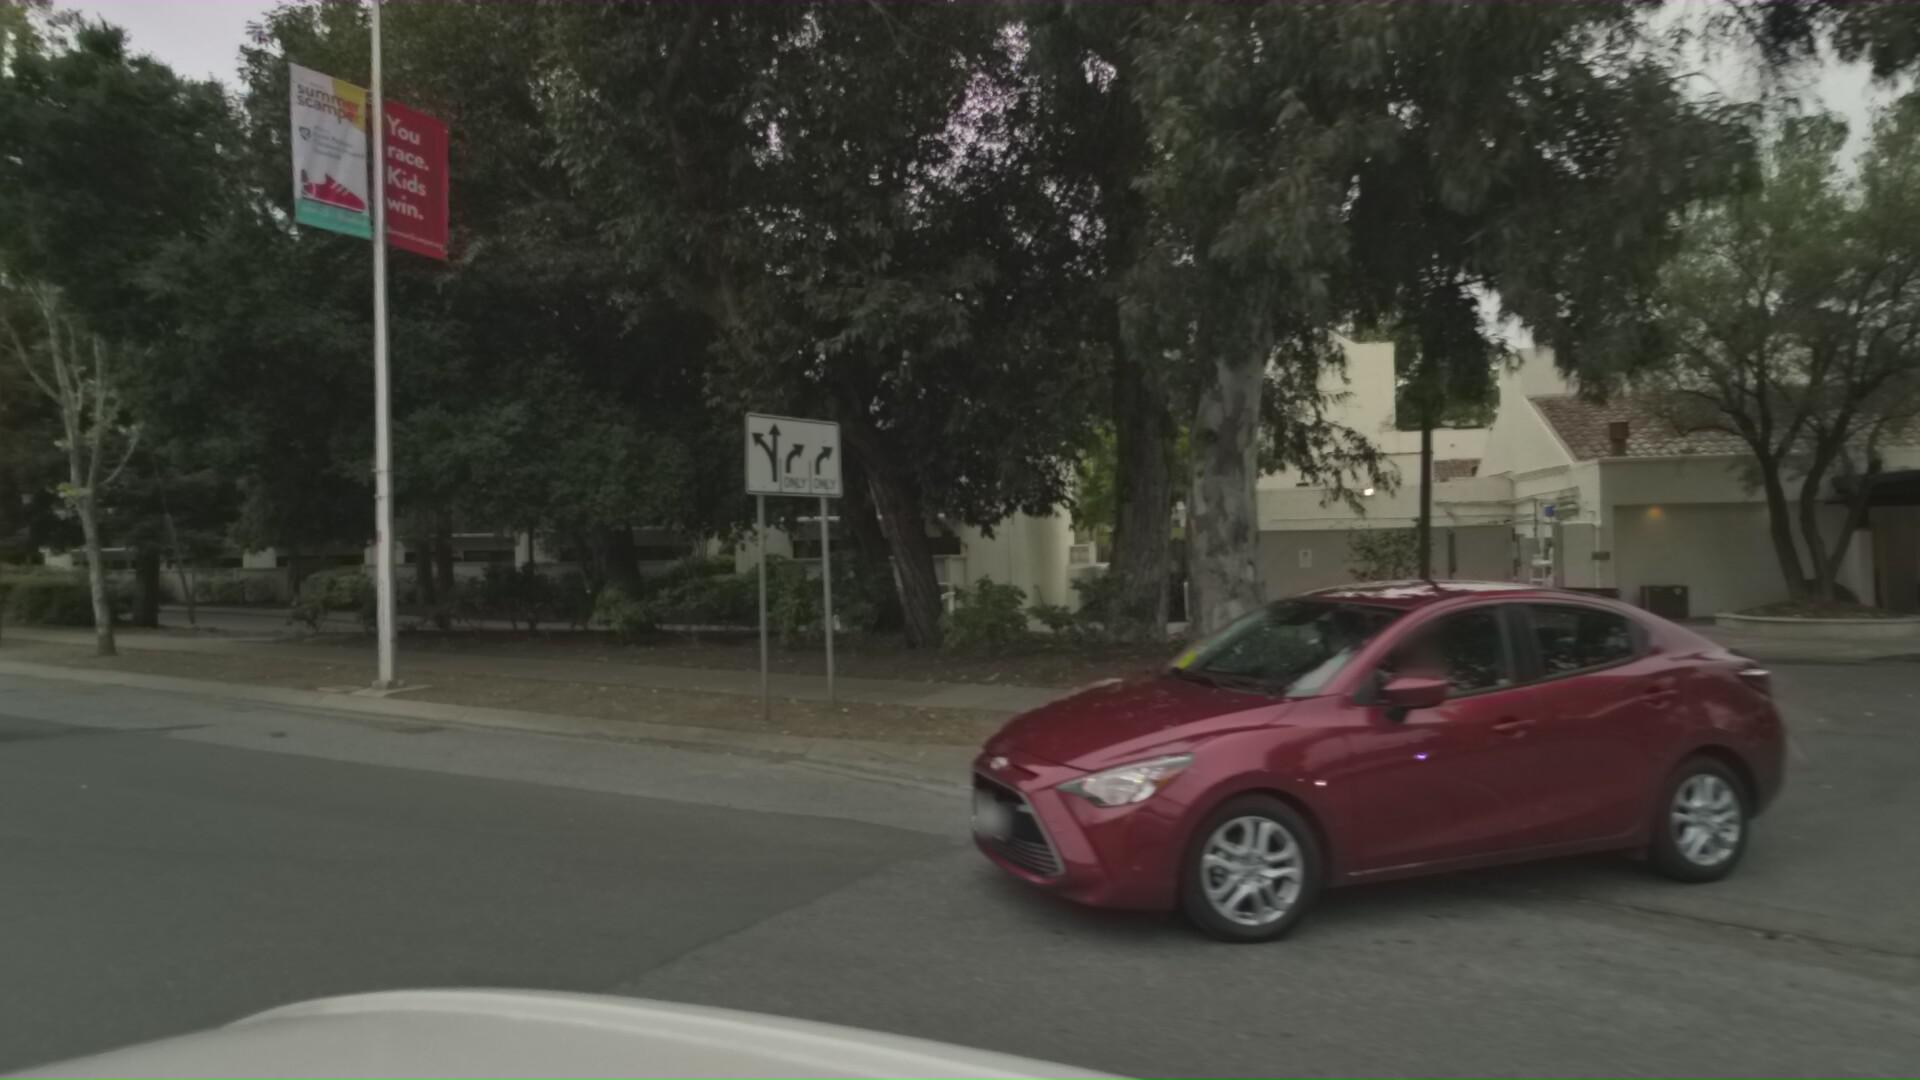car: (965, 578, 1920, 1067)
